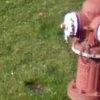Hydrant: (55, 1, 100, 100)
